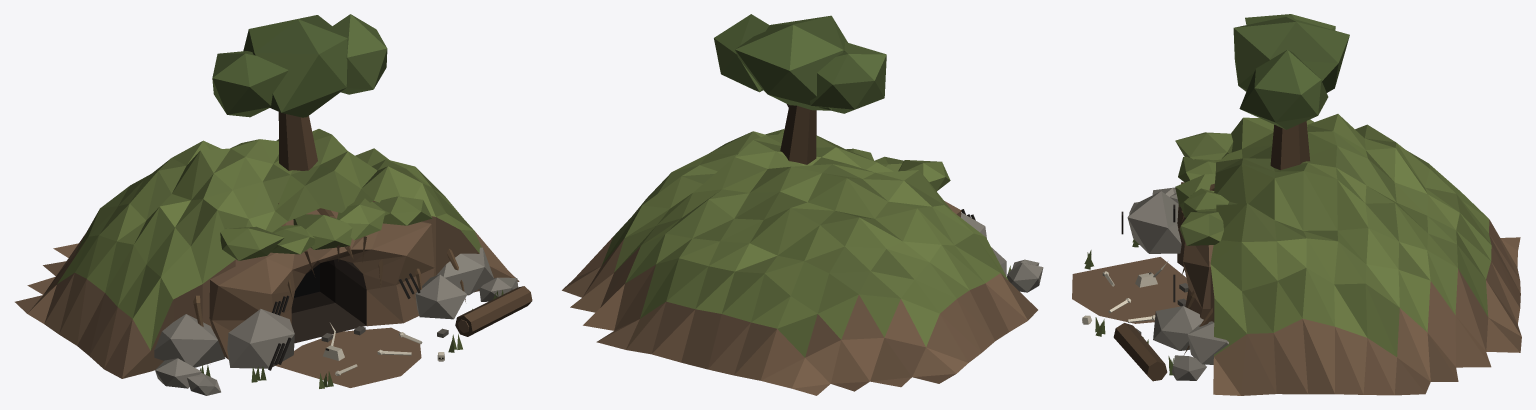
Rendered from wolf_den.glb.
3 views of the same model, side by side, from view 1: azimuth 30°, elevation 25°; view 2: azimuth 150°, elevation 25°; view 3: azimuth 270°, elevation 25° (orthographic). The views are drawn at different scales.
Parts seen in each view (by area): view 1: wolf_den; view 2: wolf_den; view 3: wolf_den.
Boxes of the visible parts, x1,y1,x2,y2 form: wolf_den: (15, 14, 532, 395); wolf_den: (562, 14, 1043, 395); wolf_den: (1072, 14, 1521, 395).
Size of the model in its own units: 12.92 by 8.45 by 12.19.
